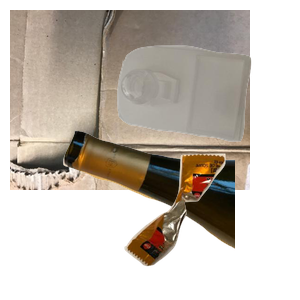cardboard: (10, 10, 250, 190)
glass: (60, 128, 300, 300)
plastic: (115, 43, 300, 177)
trash: (122, 151, 300, 300)
